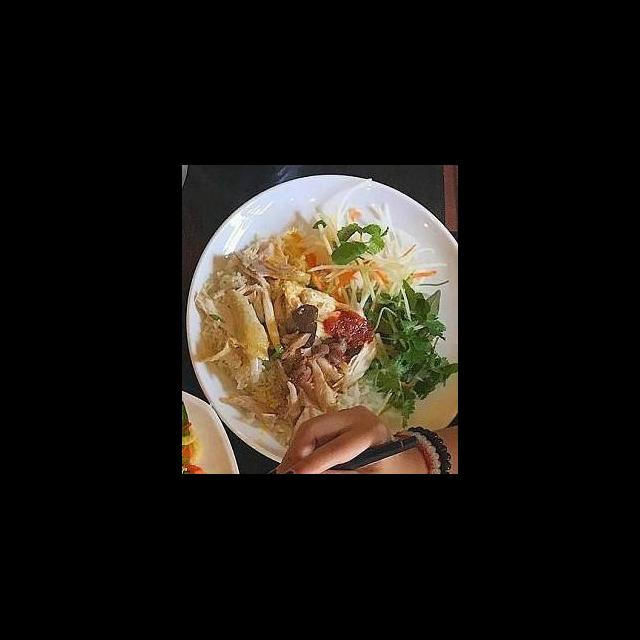com: (200, 314, 252, 392), (329, 367, 387, 418), (200, 266, 250, 304)
com ga: (197, 193, 446, 420)
rau ram: (345, 278, 458, 370)
thit ga: (217, 330, 347, 436), (282, 352, 347, 438), (219, 286, 274, 366), (240, 266, 285, 354), (230, 244, 315, 290), (331, 334, 379, 394)
